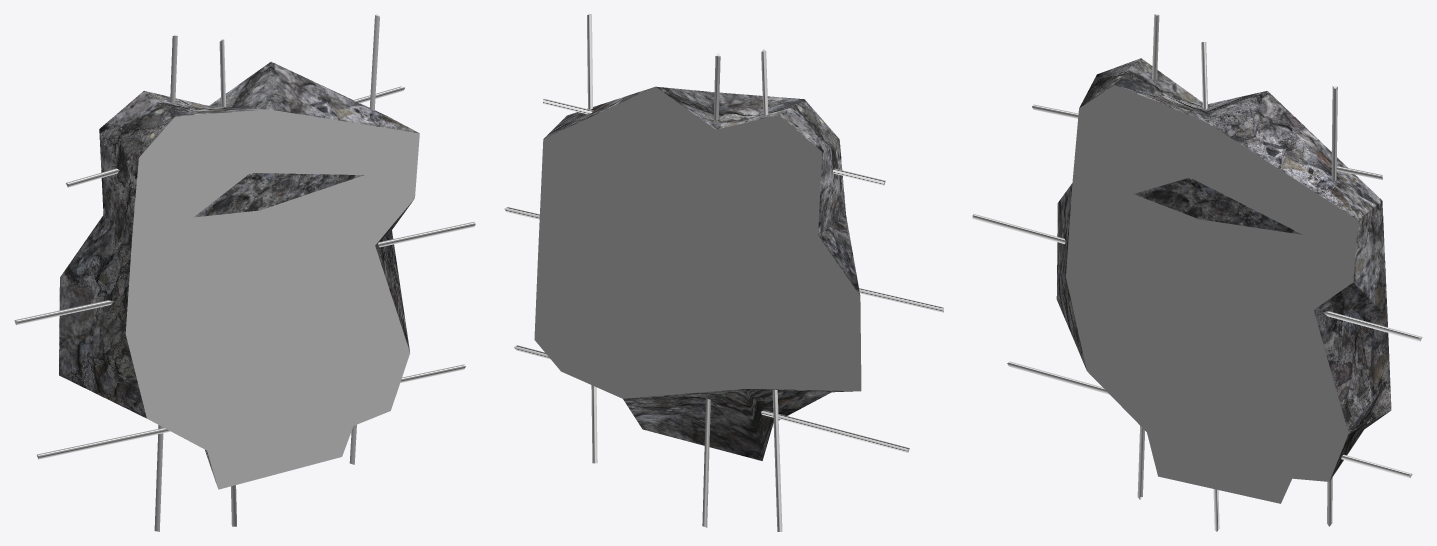
Rendered from Debris3_LOD2.fbx.
The picture shows the model from 3 angles, left to right: view 1: azimuth 30°, elevation 25°; view 2: azimuth 150°, elevation 25°; view 3: azimuth 330°, elevation 25°; orthographic projection. The views are drawn at different scales.
Visible parts, largest first — view 1: polySurface1320; view 2: polySurface1320; view 3: polySurface1320.
Part boxes in pixels (x1,y1,x2,y2): polySurface1320: (14, 14, 475, 531); polySurface1320: (504, 14, 943, 531); polySurface1320: (972, 14, 1422, 531).
Size of the model in its own units: 3.28 by 3.48 by 0.3589.
